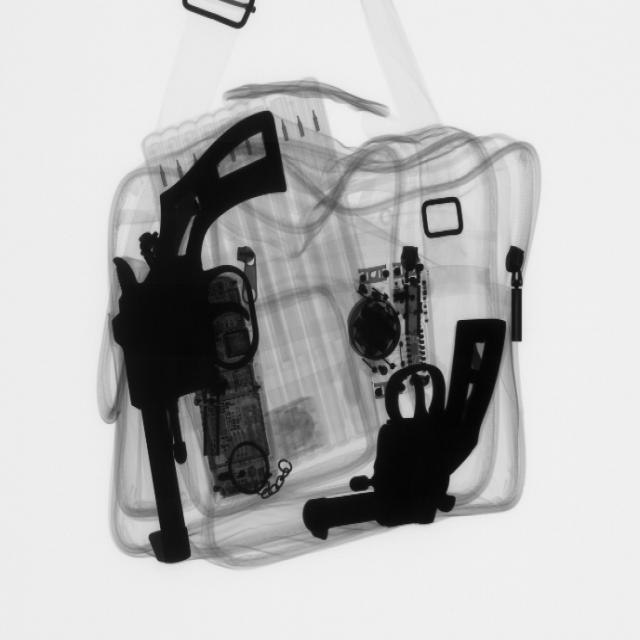GUN: (96, 104, 273, 570), (309, 302, 512, 543)
